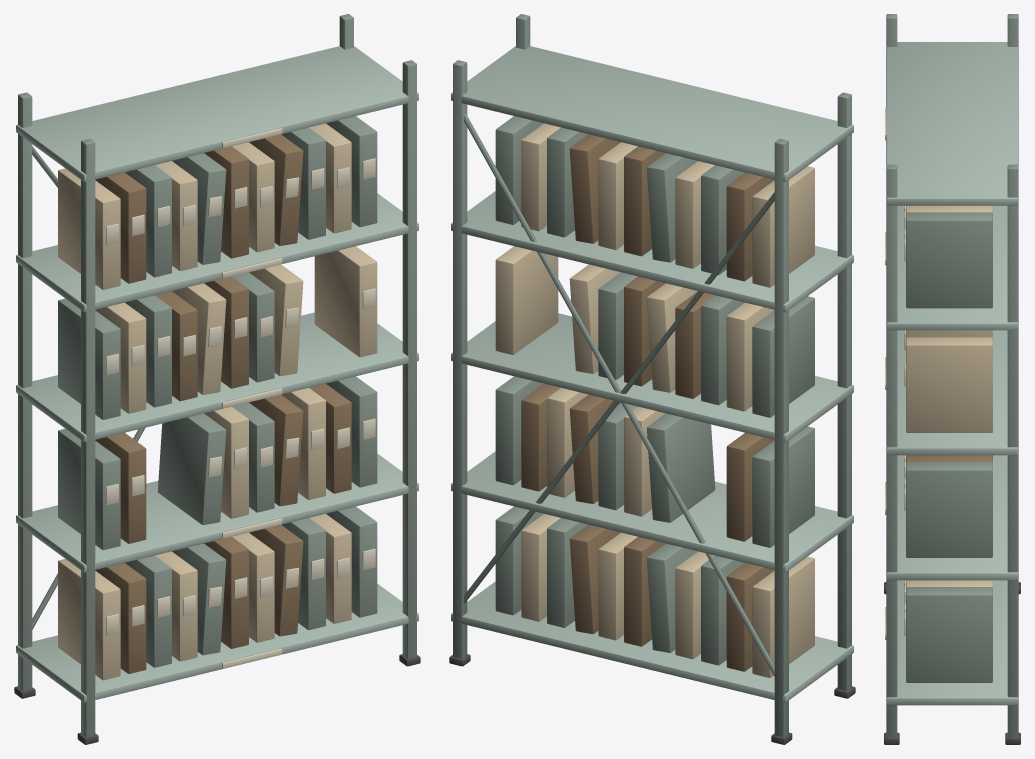
Rendered from CTCC_ENV_ArchiveShelfRack.fbx.
3 renders of one model, left to right at view 1: azimuth 30°, elevation 25°; view 2: azimuth 150°, elevation 25°; view 3: azimuth 270°, elevation 25°, orthographic. The views are drawn at different scales.
Parts seen in each view (by area): view 1: CTCC_ENV_ArchiveShelfRack_LOD0; view 2: CTCC_ENV_ArchiveShelfRack_LOD0; view 3: CTCC_ENV_ArchiveShelfRack_LOD0.
Part boxes in pixels (x1,y1,x2,y2): CTCC_ENV_ArchiveShelfRack_LOD0: (14,14,420,744); CTCC_ENV_ArchiveShelfRack_LOD0: (449,14,855,744); CTCC_ENV_ArchiveShelfRack_LOD0: (884,14,1020,744).
Size of what is drawn, in the model's own units: 1.24 by 2.12 by 0.4568.
